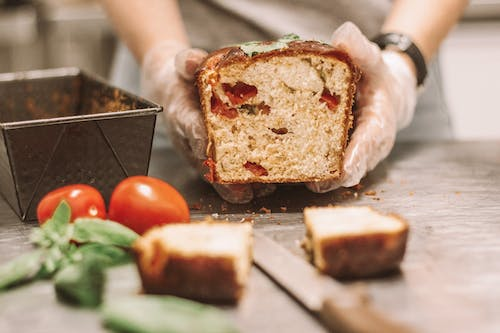knife: (253, 225, 419, 333)
